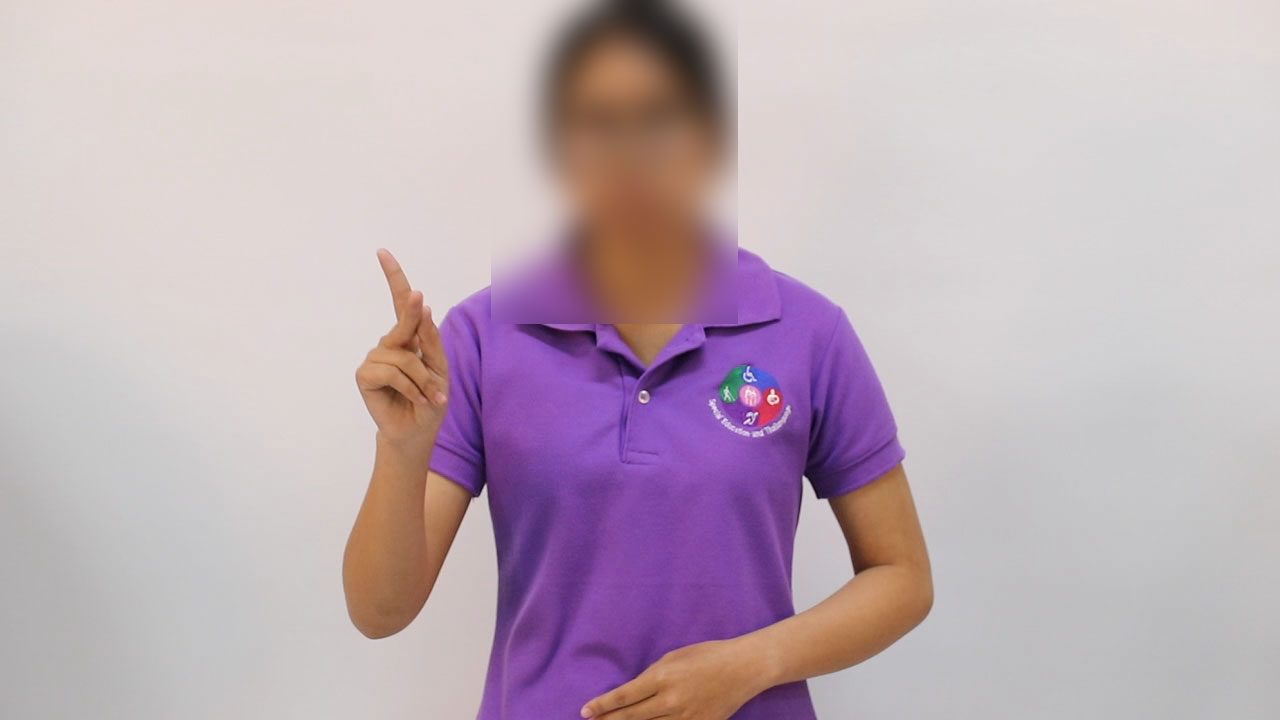ko: (339, 246, 464, 438)
